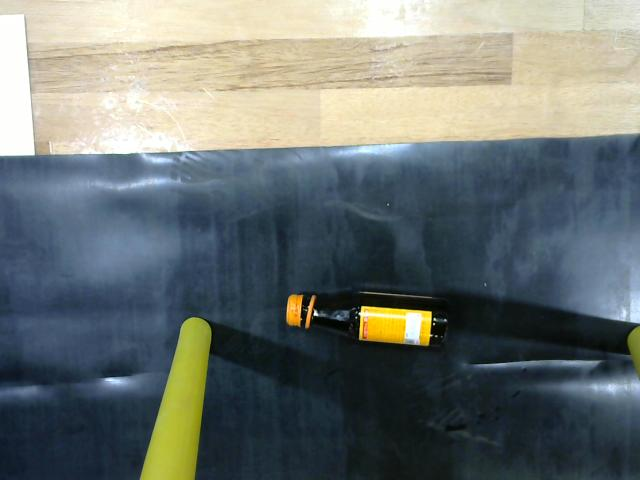glass: (282, 284, 459, 355)
